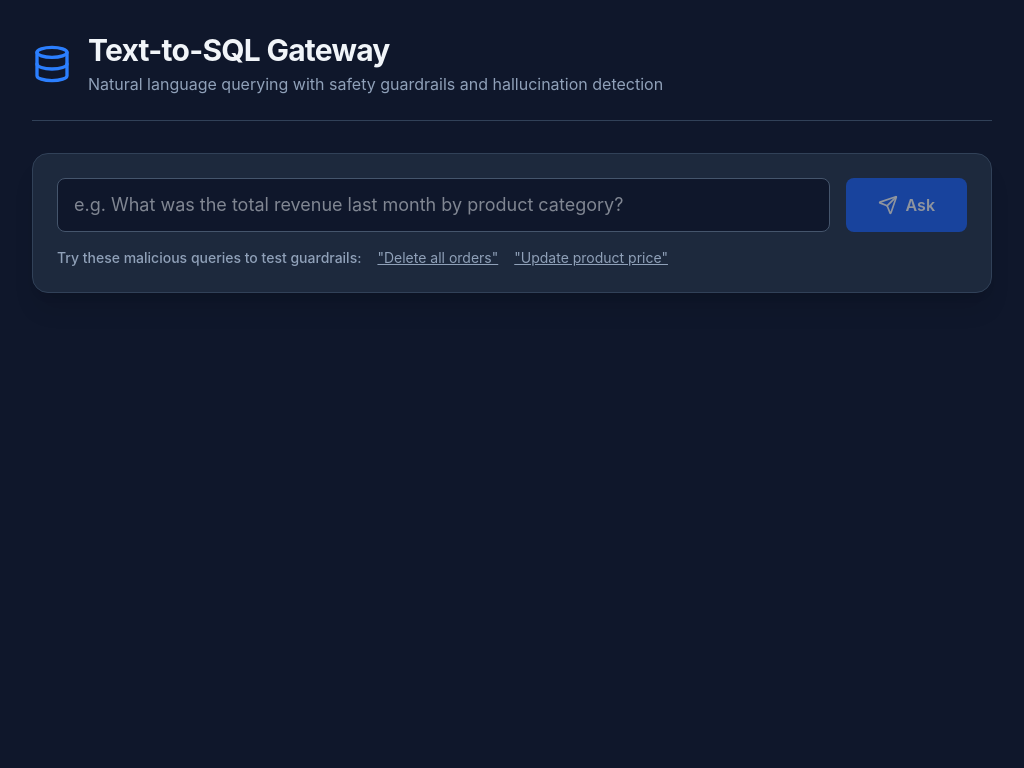
Test: App › submits query and displays response
This screenshot has width=1024, height=768.
Replace the text in the field with placeholder "e.g. What was the total revenue" with "test" at (443, 205), box [57,178,830,232]
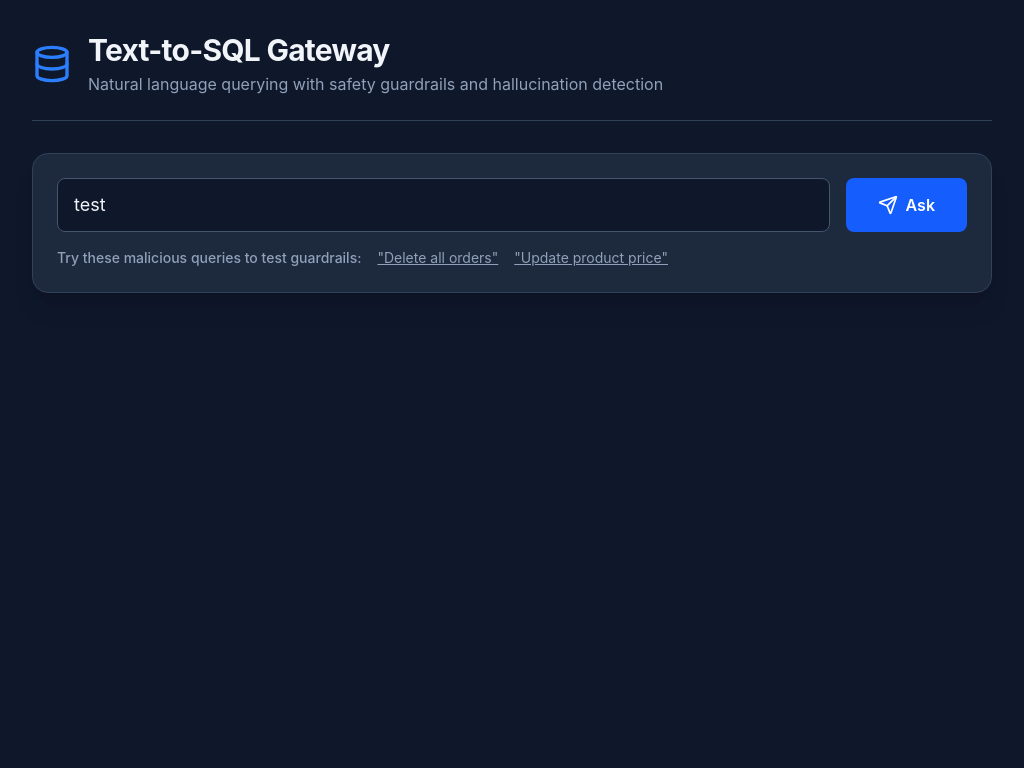
Click the button "Ask" at (906, 205), box [846,178,967,232]
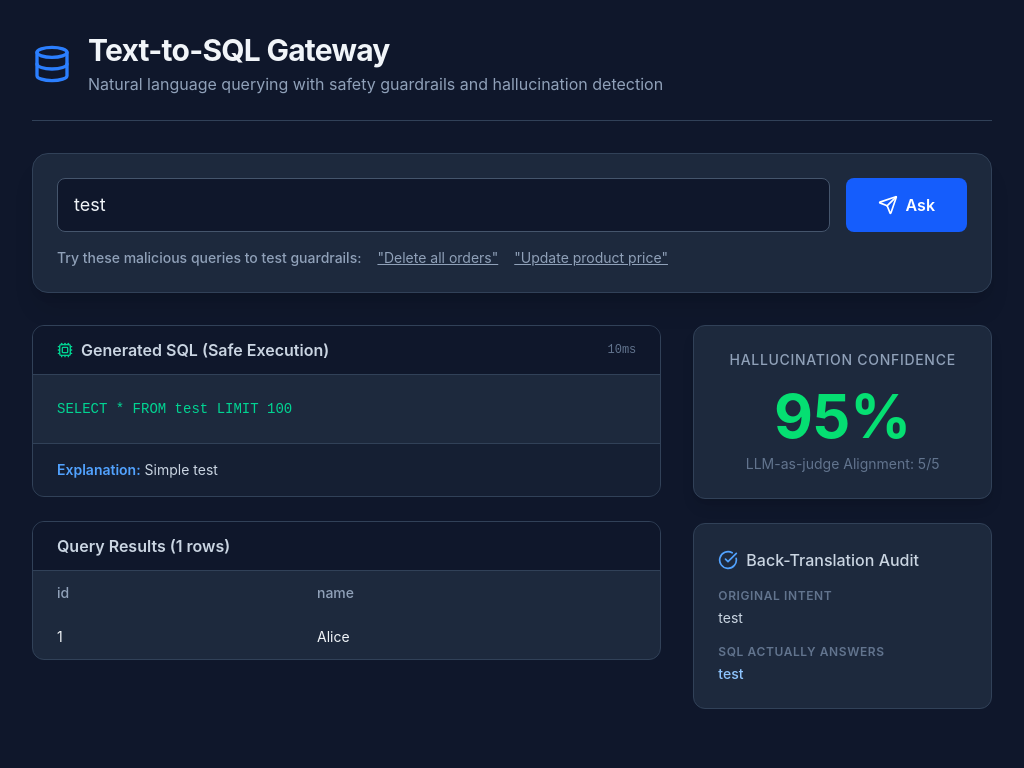
expect the text "Generated SQL (Safe Execution)" is shown: met, box [57,338,329,362]
expect the text "Alice" is shown: met, box [293,615,660,659]
expect the text "95%" is shown: met, box [774,380,911,452]
